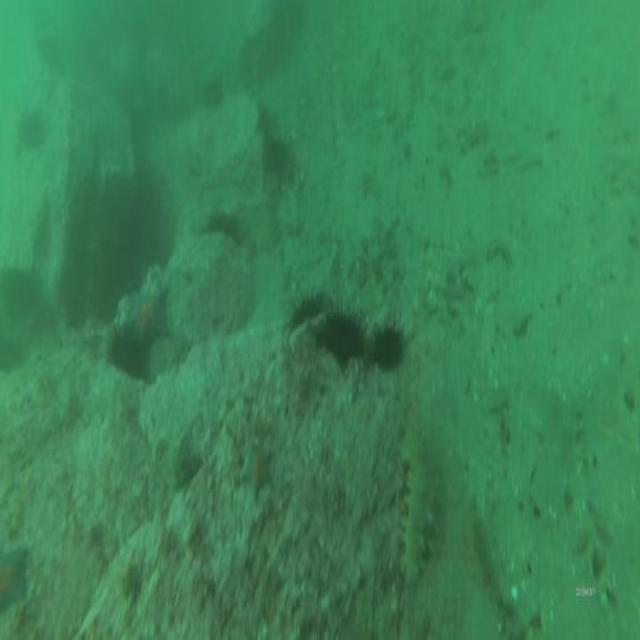echinus: (319, 312, 366, 356), (110, 334, 142, 374), (374, 330, 404, 362), (292, 294, 320, 324), (265, 138, 288, 169)
holothurian: (464, 498, 501, 612), (402, 455, 428, 586)
starfish: (239, 440, 276, 500), (0, 550, 28, 613), (135, 296, 172, 338)
